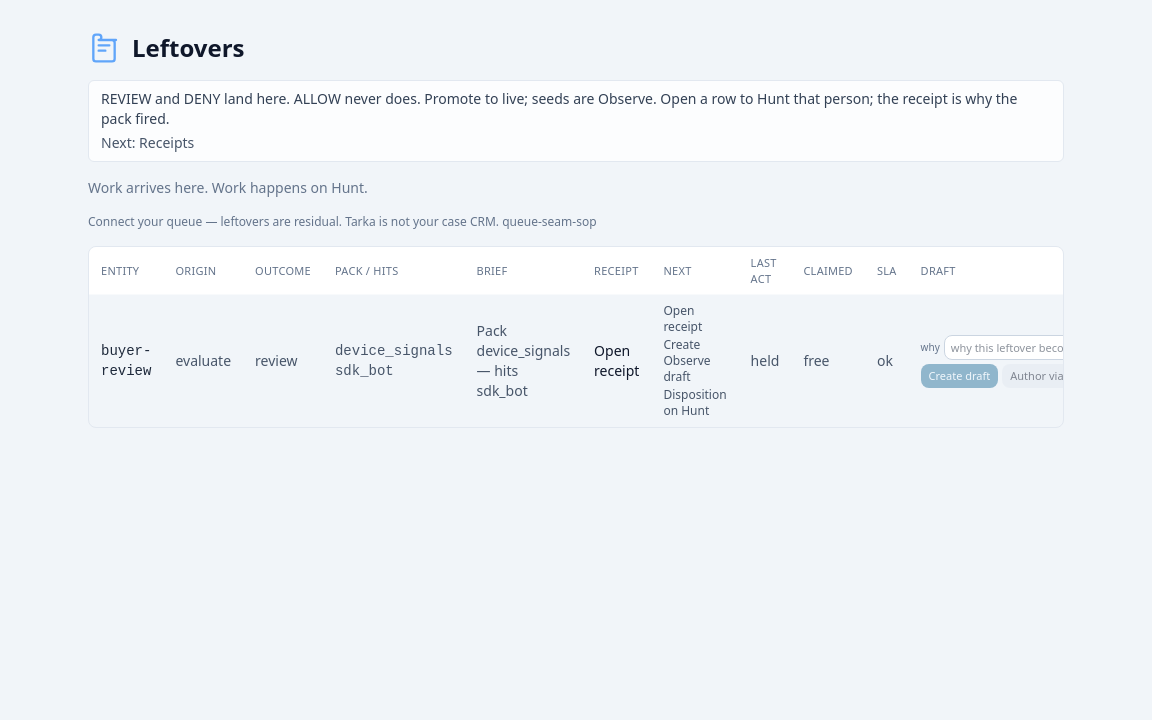
Test: desk UI scorecard T1–T4 › T1 MEP 1 click: leftover REVIEW + Open receipt shows receipt-why (not FLAG)
Expected: the button "buyer-review" is shown, left=101, top=341, right=151, bottom=381
Expected: the text "review" is shown, left=243, top=295, right=323, bottom=427
Step 1. Click the 2nd link "Open receipt" → x=612, y=351, box left=594, top=341, right=639, bottom=380
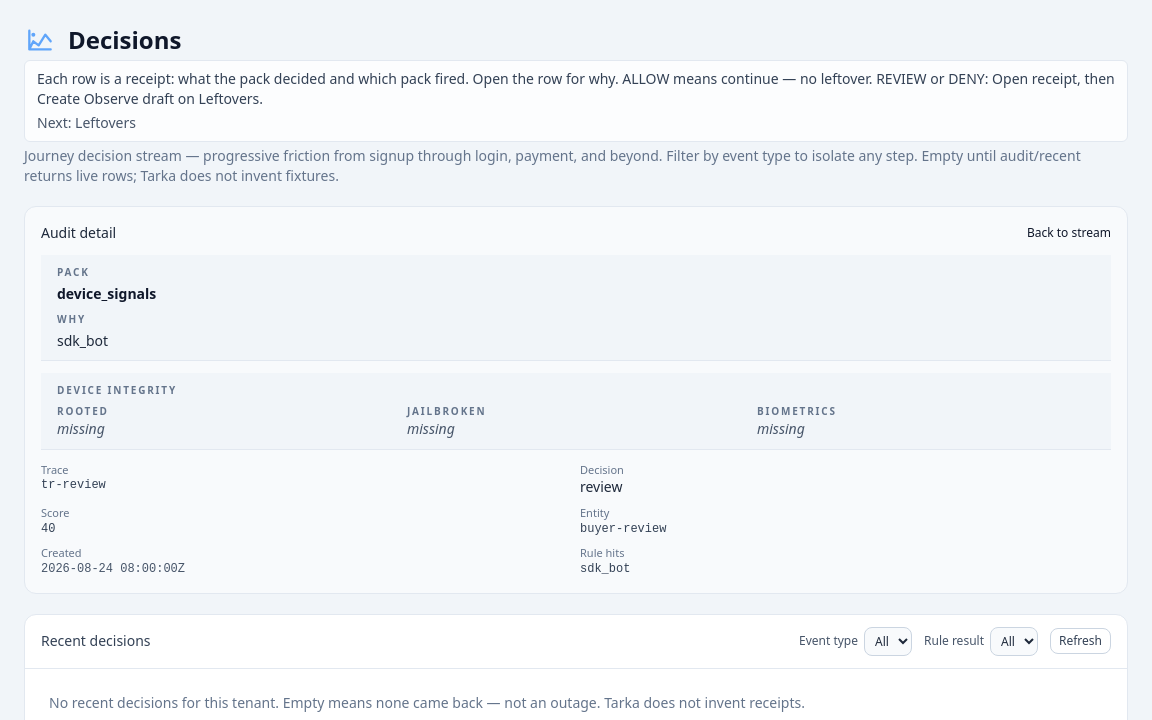
Expected: the text with test id "pack-why-pack" reads "device_signals", left=57, top=284, right=156, bottom=303
Result: the element with test id "pack-why-strip" is shown at left=41, top=255, right=1111, bottom=361
